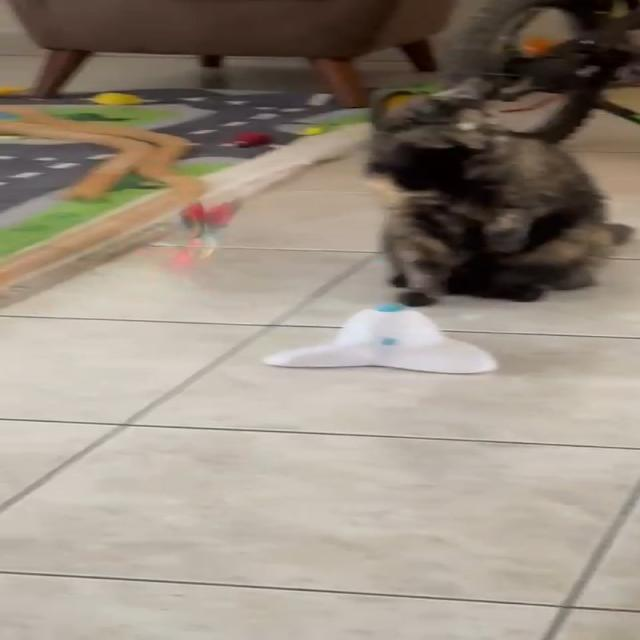authorized: (362, 76, 634, 306)
